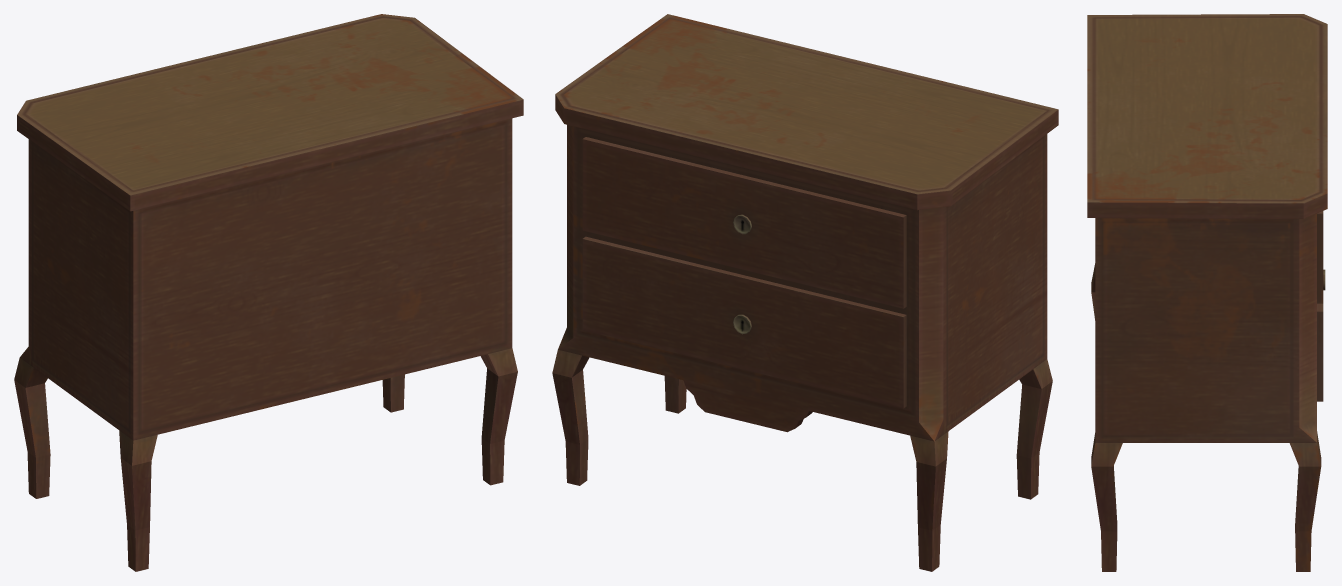
File: FUR0210042.fbx
The picture shows the model from 3 angles, left to right: view 1: azimuth 30°, elevation 25°; view 2: azimuth 150°, elevation 25°; view 3: azimuth 270°, elevation 25°; orthographic projection. The views are drawn at different scales.
Parts seen in each view (by area): view 1: smFUR0210042; view 2: smFUR0210042; view 3: smFUR0210042.
Boxes of the visible parts, x1=… form: smFUR0210042: x1=14, y1=14, x2=523, y2=571; smFUR0210042: x1=552, y1=14, x2=1058, y2=571; smFUR0210042: x1=1087, y1=14, x2=1327, y2=571.
Bounding box in the file's own units: 113 × 105 × 60.84.
Materials: 1 (1 with a texture image).
